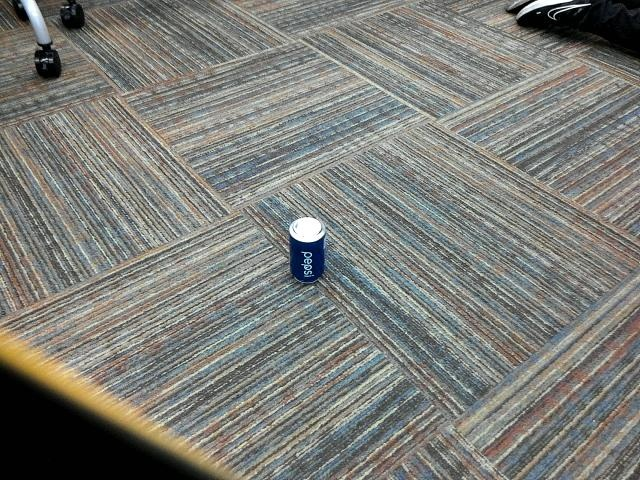can: (277, 214, 332, 288)
